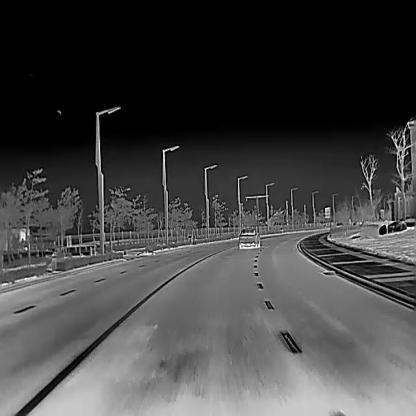car: (239, 228, 260, 249), (336, 222, 343, 226)
